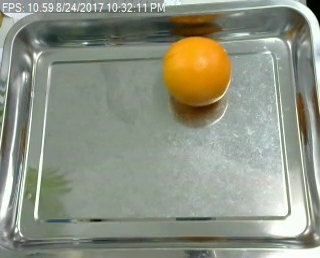Orange: (162, 35, 232, 106)
